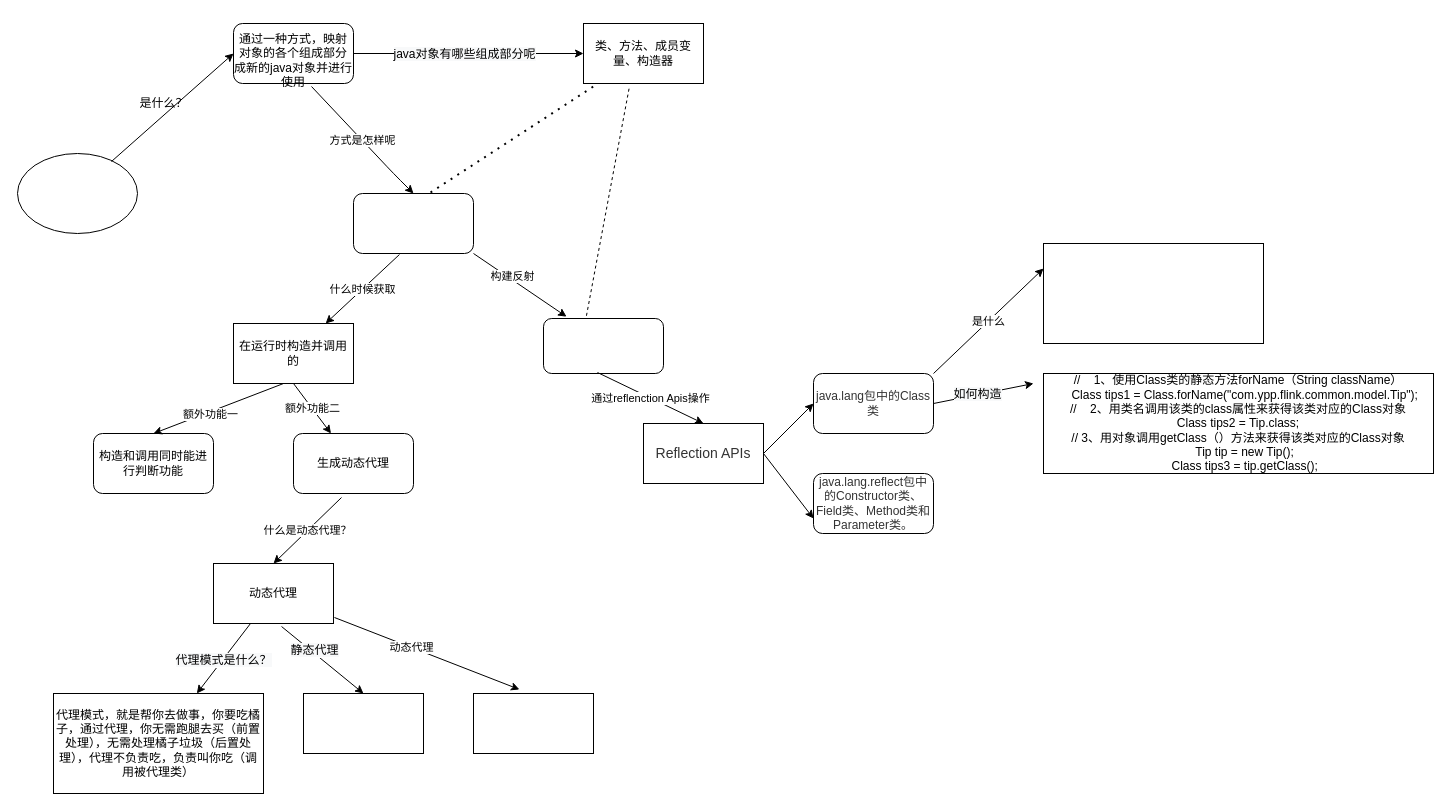
Some shapes in this 1451 by 811 pixel diagram are drawn without their labels. The shapes that lost their labels are listed below. From the top down, each one's box as (x1, y1, x2, y2) in pixels, then its label:
(16, 152, 138, 234): java反射
(352, 192, 474, 254): 获得java对象的组成部分
(1042, 242, 1264, 344): Class是一特殊的类。 任何一个正在运行的类或者接口，都会自定创建该类。 其对象是JVM在加载类时通过调用类加载器中的defineClass（）方法创建的
(542, 318, 664, 374): 反射基于组成部分：类，方法，成员变量和构造器
(302, 692, 424, 754): 静态代理就是对一个类进行代理操作，
(472, 692, 594, 754): 利用反射生成相关代理类
